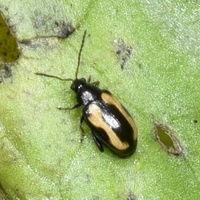insect: (36, 30, 136, 157)
